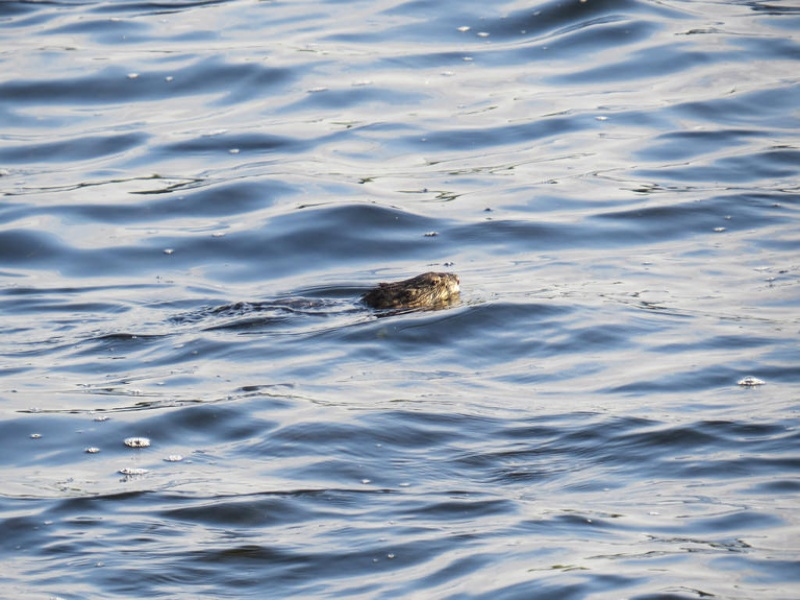minkish: (347, 269, 473, 334)
